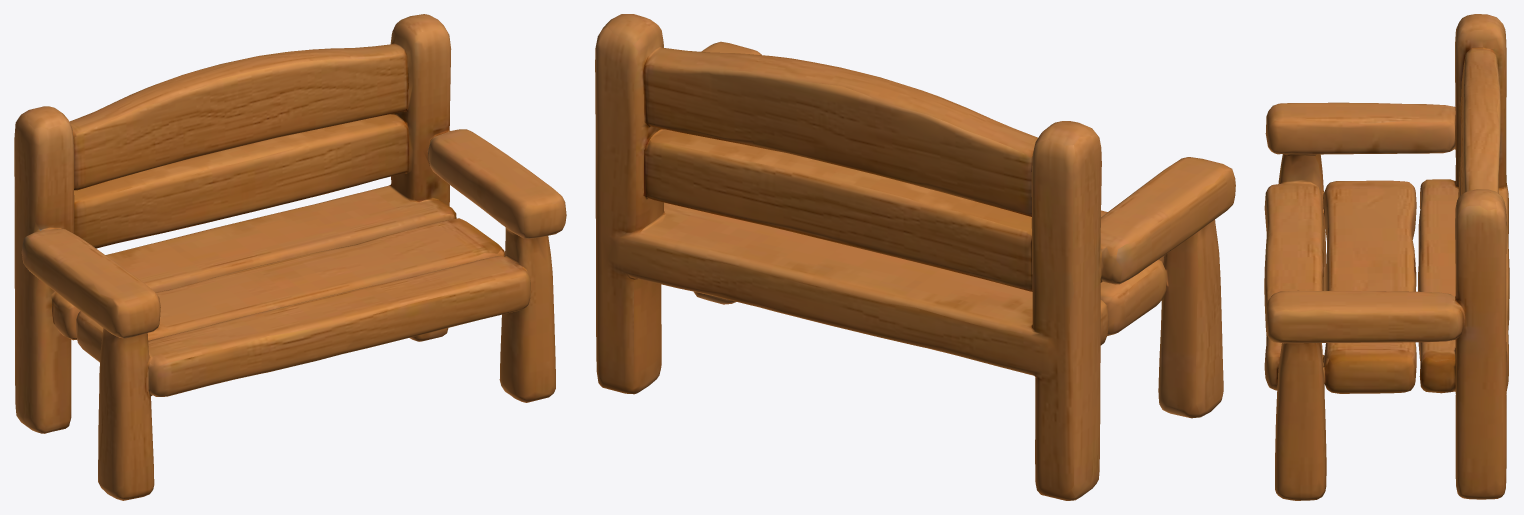
The model's file is bench_wood.glb.
The picture shows the model from 3 angles, left to right: view 1: azimuth 30°, elevation 25°; view 2: azimuth 150°, elevation 25°; view 3: azimuth 270°, elevation 25°; orthographic projection. The views are drawn at different scales.
Parts seen in each view (by area): view 1: textured_mesh.obj; view 2: textured_mesh.obj; view 3: textured_mesh.obj.
Part boxes in pixels (<box>): textured_mesh.obj: <box>14,14,566,500</box>; textured_mesh.obj: <box>595,14,1235,500</box>; textured_mesh.obj: <box>1264,14,1509,500</box>.
Size of what is drawn, in the model's own units: 1.43 by 0.95 by 0.701.
Materials: 1 (1 with a texture image).
